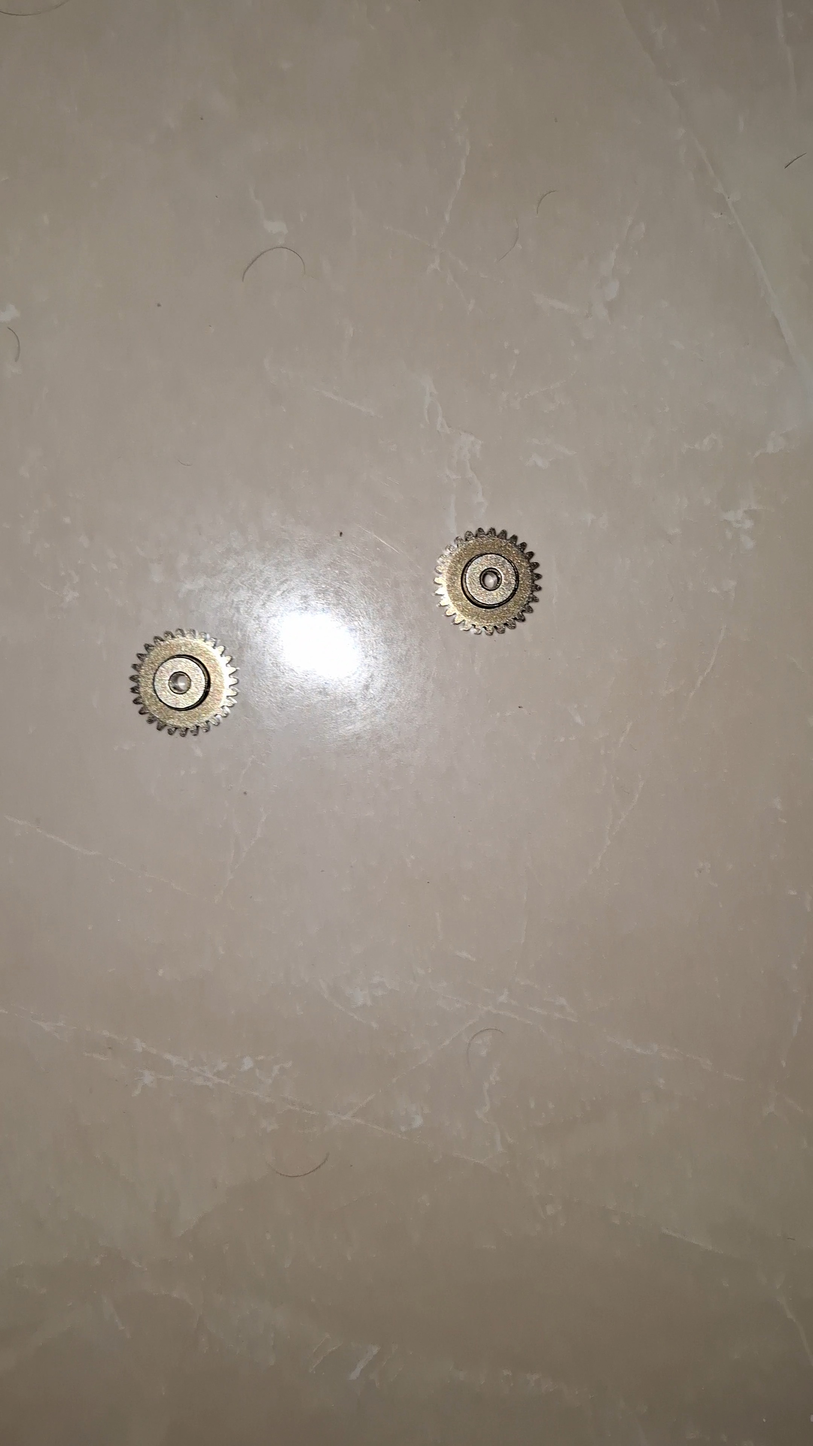spur gear: (131, 630, 237, 736), (435, 528, 539, 634)
